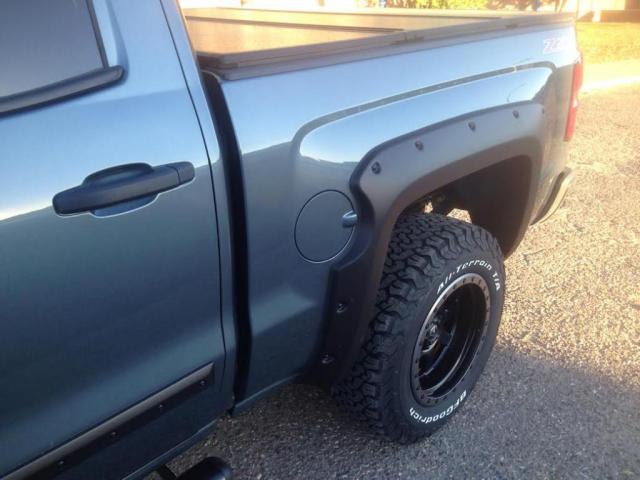Door-handle: (47, 162, 198, 216)
